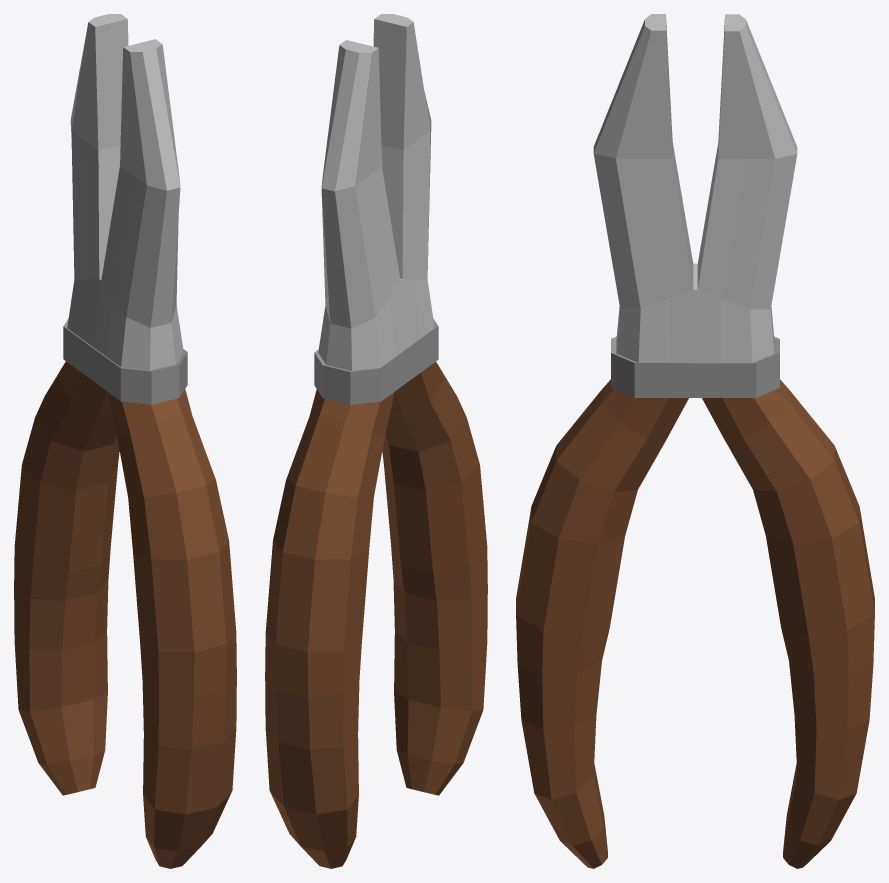
File: plier01.obj
3 renders of one model, left to right at view 1: azimuth 30°, elevation 25°; view 2: azimuth 150°, elevation 25°; view 3: azimuth 270°, elevation 25°, orthographic. The views are drawn at different scales.
Visible parts, largest first — view 1: Cylinder.001_Cylinder.005; view 2: Cylinder.001_Cylinder.005; view 3: Cylinder.001_Cylinder.005.
Boxes of the visible parts, x1=… form: Cylinder.001_Cylinder.005: x1=14, y1=14, x2=236, y2=868; Cylinder.001_Cylinder.005: x1=265, y1=14, x2=487, y2=868; Cylinder.001_Cylinder.005: x1=516, y1=14, x2=874, y2=868.
Size of the model in its own units: 0.0202 by 0.1976 by 0.0763.
1 material, 1 textured.
